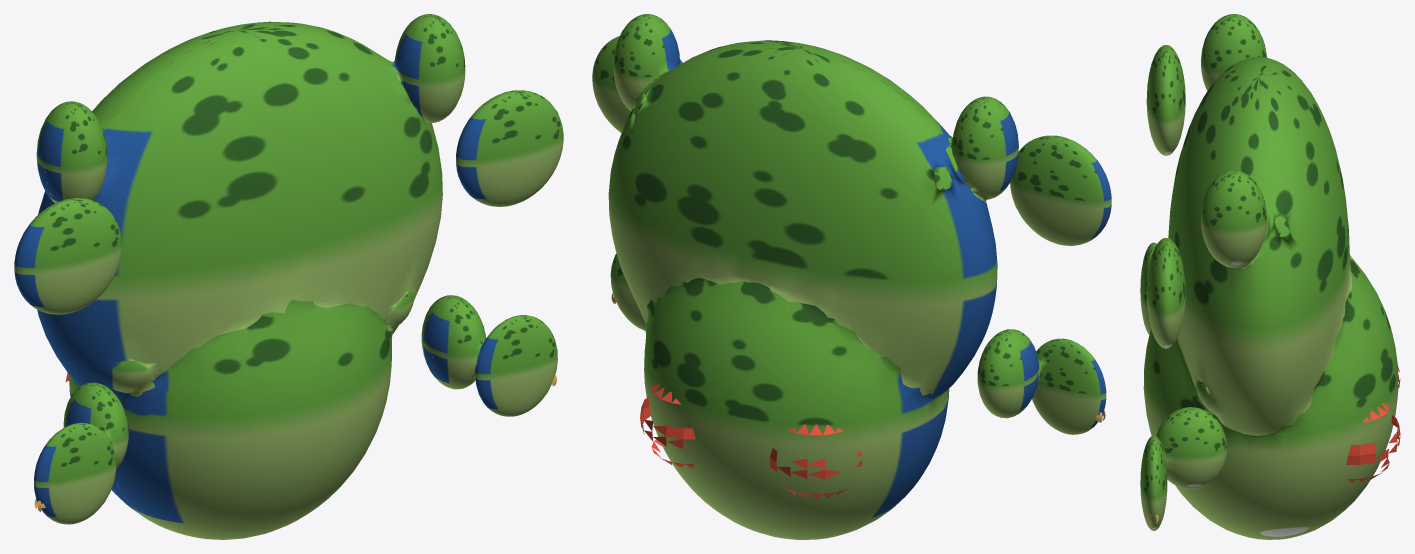
File: char__frog__v02.glb
3 renders of one model, left to right at view 1: azimuth 30°, elevation 25°; view 2: azimuth 150°, elevation 25°; view 3: azimuth 270°, elevation 25°, orthographic. The views are drawn at different scales.
Parts seen in each view (by area): view 1: frog_body; view 2: frog_body, eye_R, eye_L; view 3: frog_body, eye_R.
Part boxes in pixels (x1,y1,x2,y2): frog_body: (14, 14, 563, 539); frog_body: (592, 14, 1111, 539); eye_R: (640, 383, 695, 467); eye_L: (770, 424, 862, 498); frog_body: (1140, 14, 1398, 539); eye_R: (1346, 403, 1400, 482).
Bounding box in the file's own units: 1.83 × 1.61 × 0.8437.
3 materials, 1 textured.
